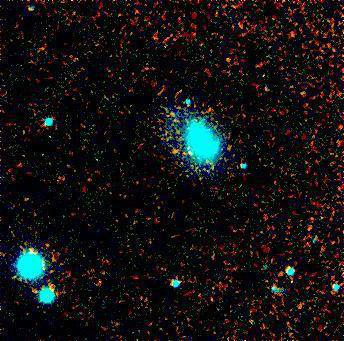star: (161, 136, 191, 166)
